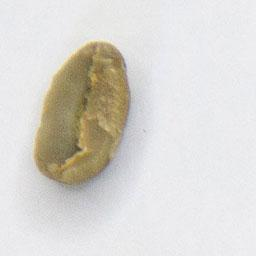longberry: (29, 36, 136, 188)
